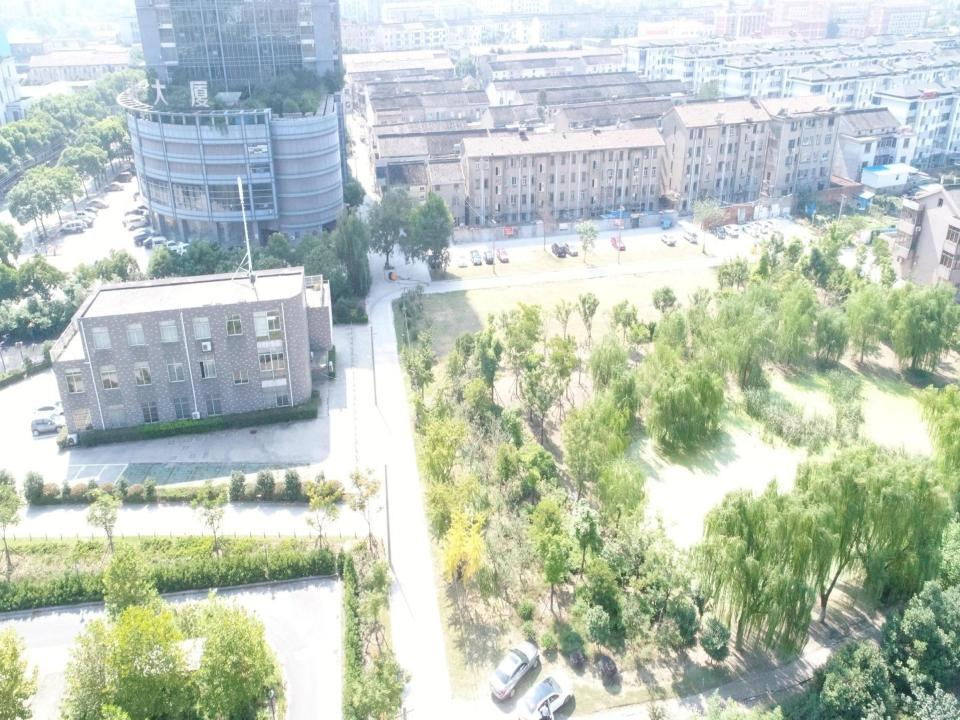car: (487, 641, 541, 703), (517, 672, 572, 719), (28, 414, 67, 436), (30, 405, 66, 419), (132, 228, 156, 241), (122, 213, 146, 226), (133, 234, 158, 246), (86, 197, 108, 210), (69, 216, 92, 228), (722, 223, 740, 238), (143, 236, 162, 250), (551, 241, 567, 257), (610, 235, 626, 251), (708, 225, 726, 239), (742, 223, 760, 237), (764, 219, 783, 232), (124, 206, 144, 218), (660, 232, 676, 246), (103, 182, 123, 192), (74, 210, 96, 219), (564, 242, 578, 256), (177, 243, 193, 255), (455, 252, 467, 268), (753, 221, 769, 233), (113, 172, 132, 182), (161, 241, 184, 249), (482, 250, 495, 264), (496, 248, 509, 262), (428, 253, 440, 268), (470, 250, 482, 265), (82, 206, 98, 214)
van: (60, 218, 84, 234), (124, 218, 148, 230), (152, 237, 169, 249), (683, 229, 697, 243)
